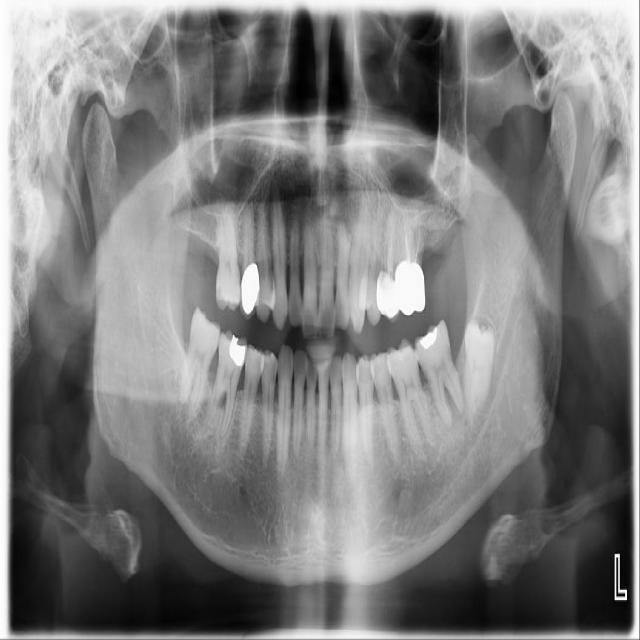52: (410, 317, 455, 376), (393, 259, 427, 317), (214, 329, 250, 372), (374, 268, 401, 323), (240, 263, 260, 318)
73: (588, 579, 591, 587)
Biomet 3i Implant: (462, 319, 495, 416)
Blue Sky Bio Implant: (409, 316, 470, 429)
Implant: (178, 305, 225, 422)
